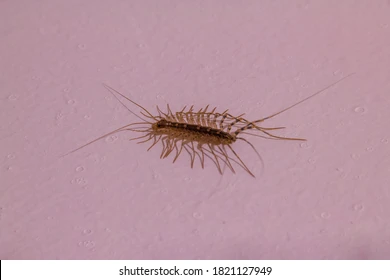centipede: (90, 85, 355, 179)
